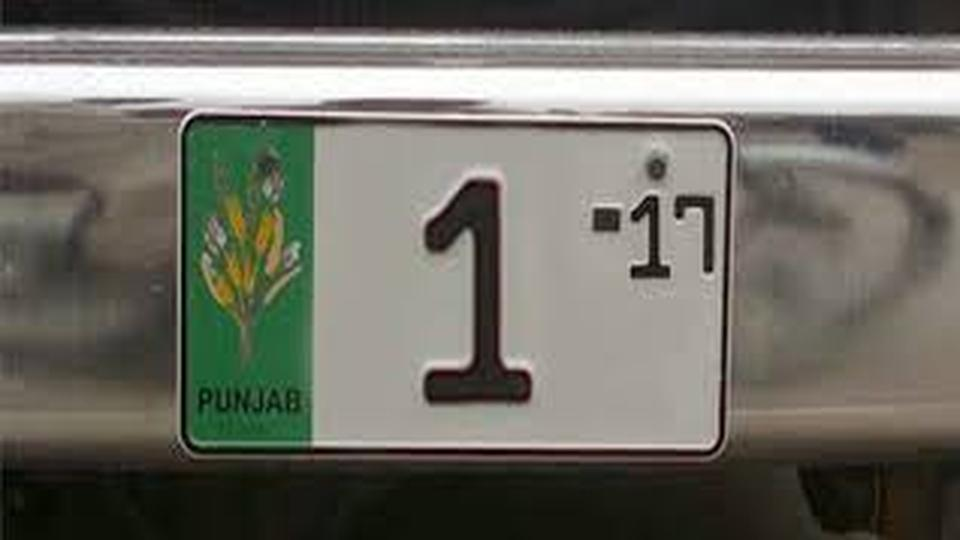NumberPlate: (180, 110, 737, 456)
